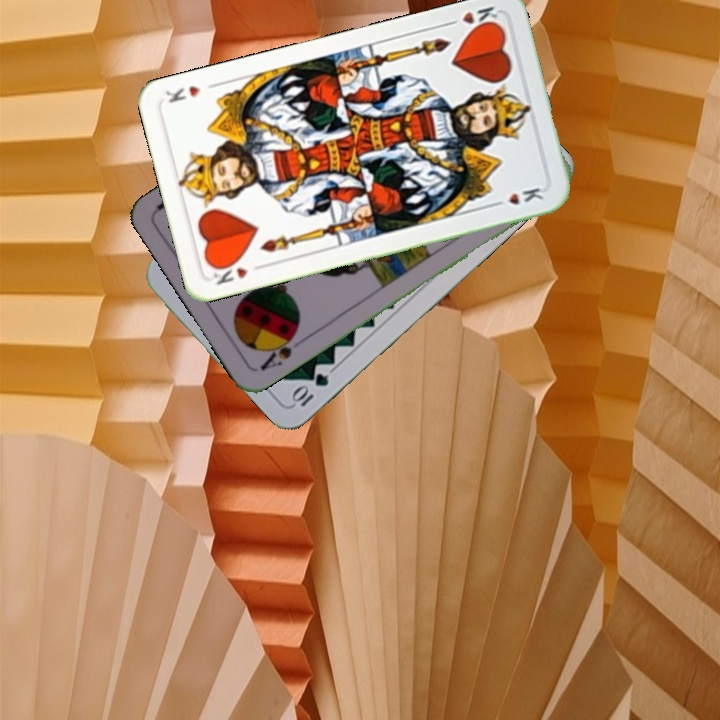G10: (287, 369, 332, 410)
HK: (442, 2, 501, 34), (207, 257, 251, 288)
SA: (256, 327, 301, 373)
